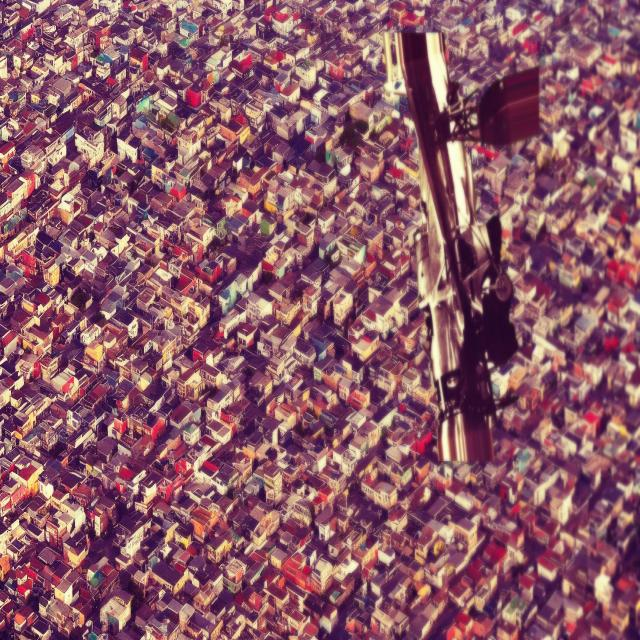airplane: (390, 28, 540, 464)
